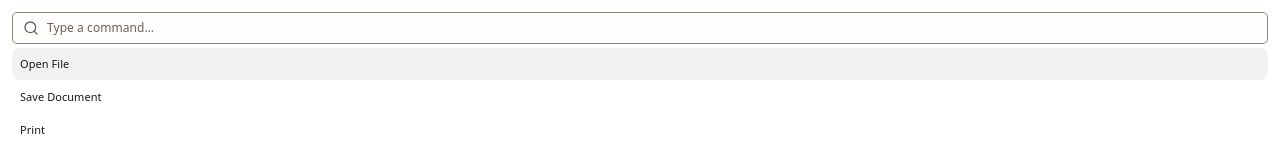
Test case: Command › empty state shows when no matches
Type "zzzzz" into the dropdown with placeholder "Type a command…".
click(652, 28); type("zzzzz")  # box [47,19,1257,37]
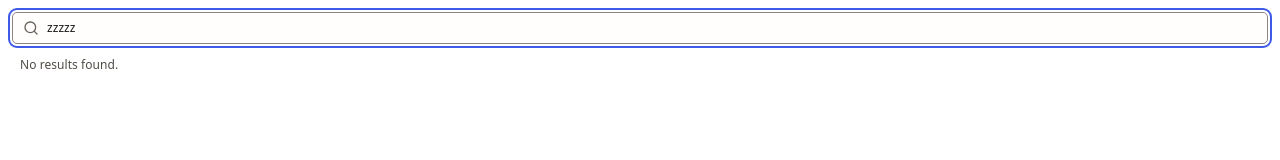
Expected: the text "No results found." is shown, [20,56,118,73]
